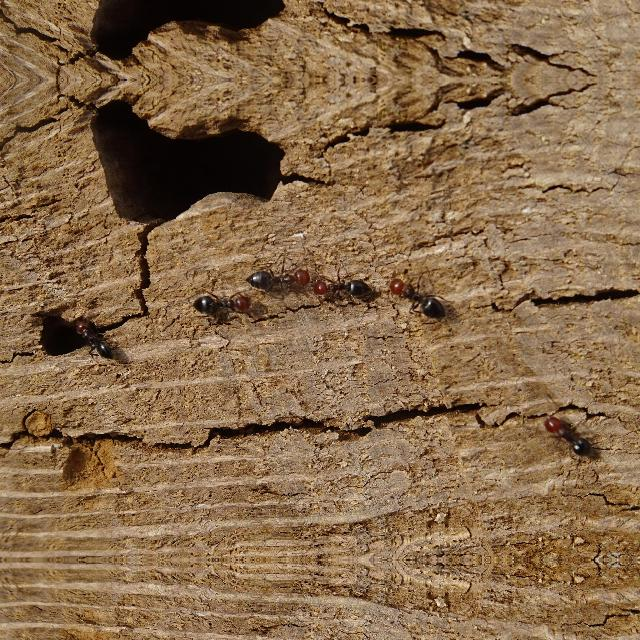Crematogaster: (383, 272, 451, 330), (540, 412, 590, 462), (307, 272, 375, 306), (68, 312, 114, 362), (244, 260, 312, 292), (188, 288, 254, 316)
